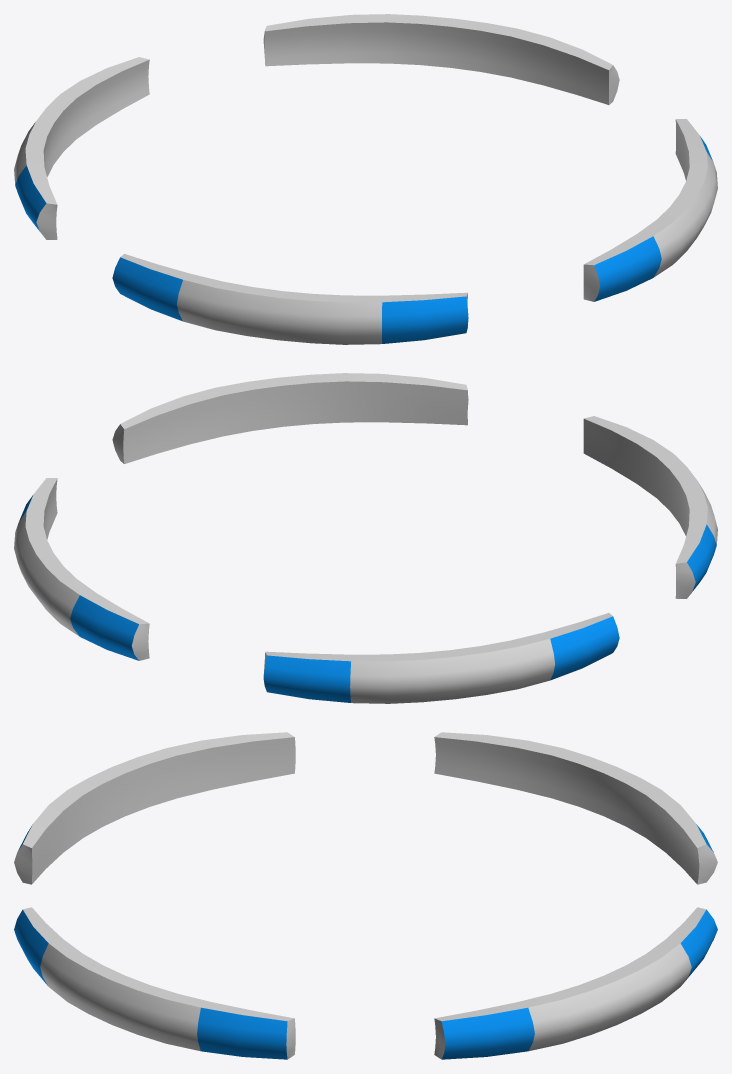
The model's file is tower004.fbx.
3 views of the same model, one above another, from view 1: azimuth 30°, elevation 25°; view 2: azimuth 150°, elevation 25°; view 3: azimuth 270°, elevation 25° (orthographic). The views are drawn at different scales.
Visible parts, largest first — view 1: tower004; view 2: tower004; view 3: tower004.
Part boxes in pixels (bbox=[...]): tower004: bbox=[14, 14, 717, 344]; tower004: bbox=[14, 373, 717, 703]; tower004: bbox=[14, 732, 717, 1059].
Bounding box in the file's own units: 44.91 × 44.91 × 3.12.
